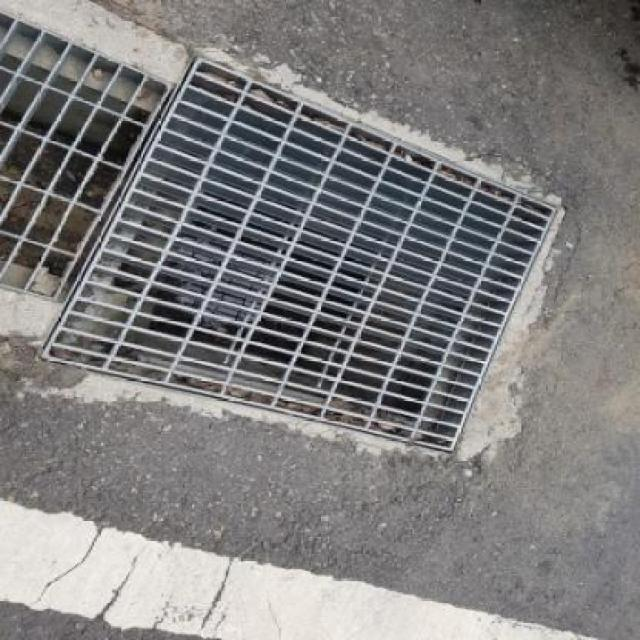Drain Hole: (86, 36, 529, 480)
